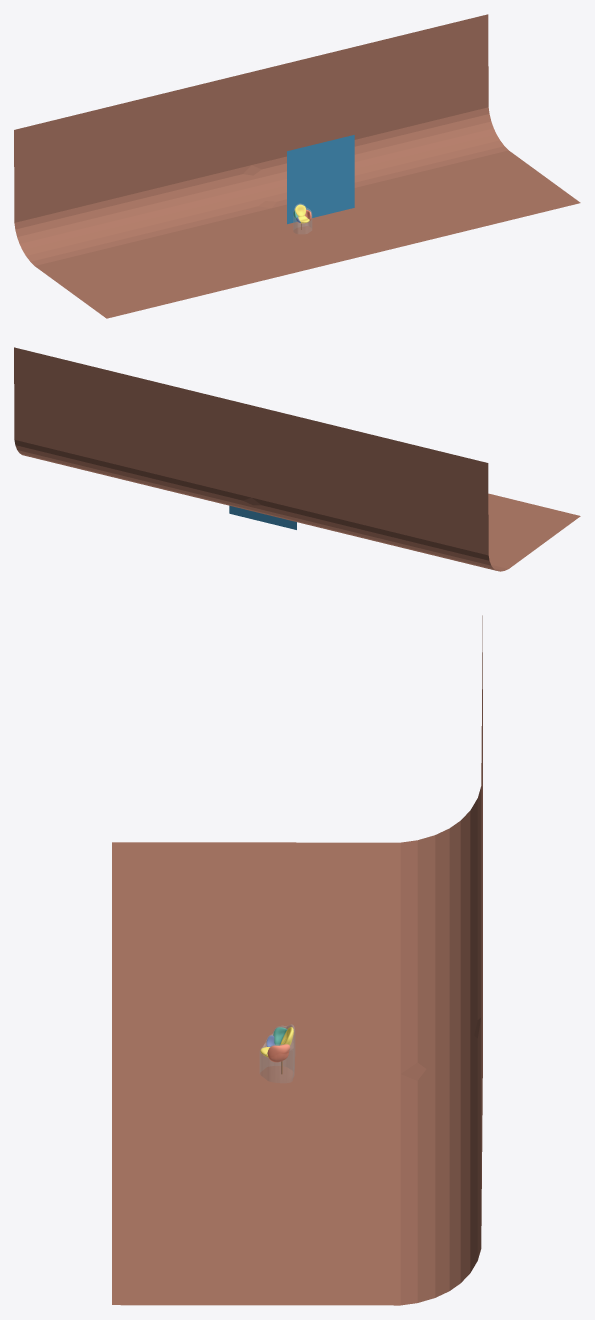
File: glass-chair.glb
The picture shows the model from 3 angles, top to bottom: view 1: azimuth 30°, elevation 25°; view 2: azimuth 150°, elevation 25°; view 3: azimuth 270°, elevation 25°; orthographic projection. The views are drawn at different scales.
Parts seen in each view (by area): view 1: Floor, Blue wall, Glass; view 2: Floor, Blue wall; view 3: Floor, Glass.
Part boxes in pixels (bbox=[...]): Floor: bbox=[14, 14, 580, 318]; Blue wall: bbox=[287, 135, 354, 224]; Glass: bbox=[293, 203, 312, 233]; Floor: bbox=[14, 347, 580, 571]; Blue wall: bbox=[229, 505, 296, 529]; Floor: bbox=[112, 615, 482, 1305]; Glass: bbox=[260, 1024, 294, 1082].
Size of the model in its own units: 88.1 by 27.29 by 29.84.
